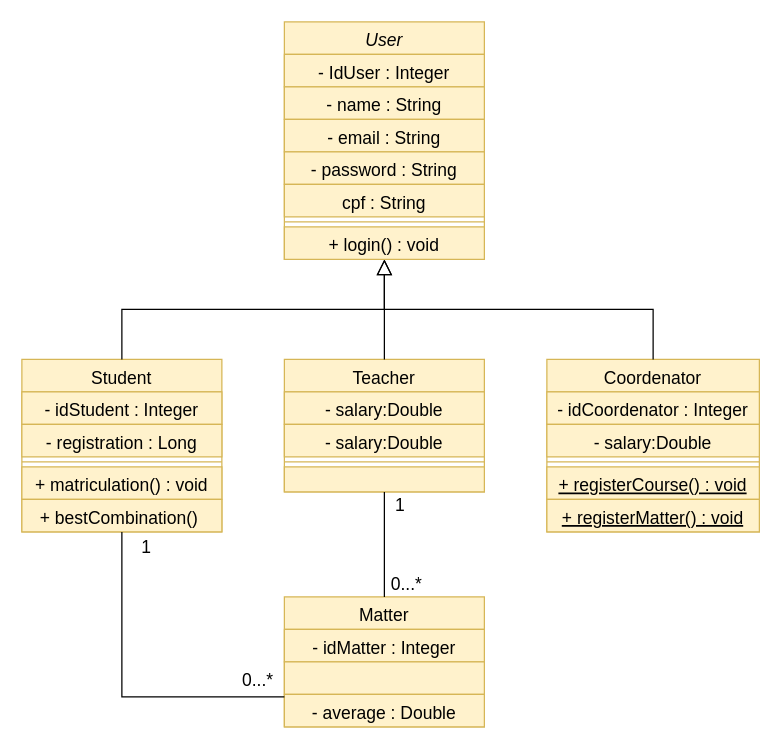
Image size: 781x753. Some labels were removed from this diagram. The centre of each missing label's shape, as x and y in pixels:
+ registeNote() : void: pixel 383 479
- description : String: pixel 383 677
